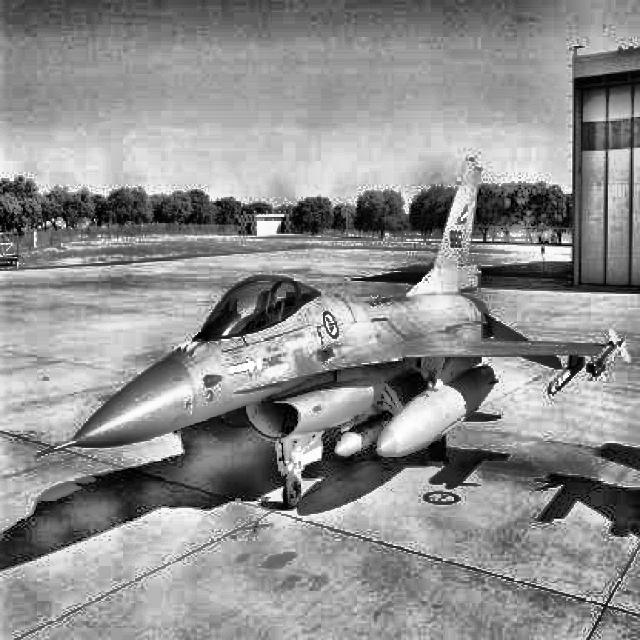F16: (35, 157, 632, 512)
